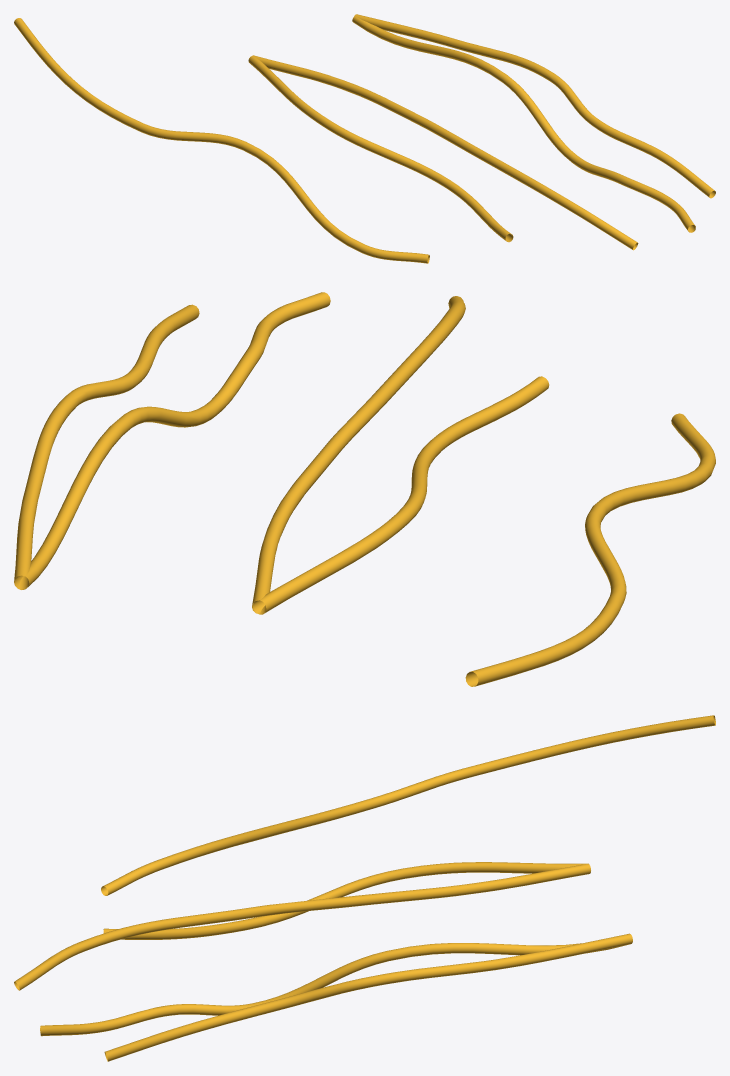
The model's file is nervoso-proper-plantar-digital-branches-of-medial-plantar-nerve-l.glb.
The picture shows the model from 3 angles, top to bottom: view 1: azimuth 30°, elevation 25°; view 2: azimuth 150°, elevation 25°; view 3: azimuth 270°, elevation 25°; orthographic projection. The views are drawn at different scales.
Visible parts, largest first — view 1: Proper plantar digital branches of medial plantar nerve.l; view 2: Proper plantar digital branches of medial plantar nerve.l; view 3: Proper plantar digital branches of medial plantar nerve.l.
Part boxes in pixels (box(x1,y1,x2,y2)): Proper plantar digital branches of medial plantar nerve.l: box(14, 14, 715, 263); Proper plantar digital branches of medial plantar nerve.l: box(14, 292, 715, 686); Proper plantar digital branches of medial plantar nerve.l: box(14, 715, 715, 1061).
Bounding box in the file's own units: 0.0554 × 0.0112 × 0.0665.
